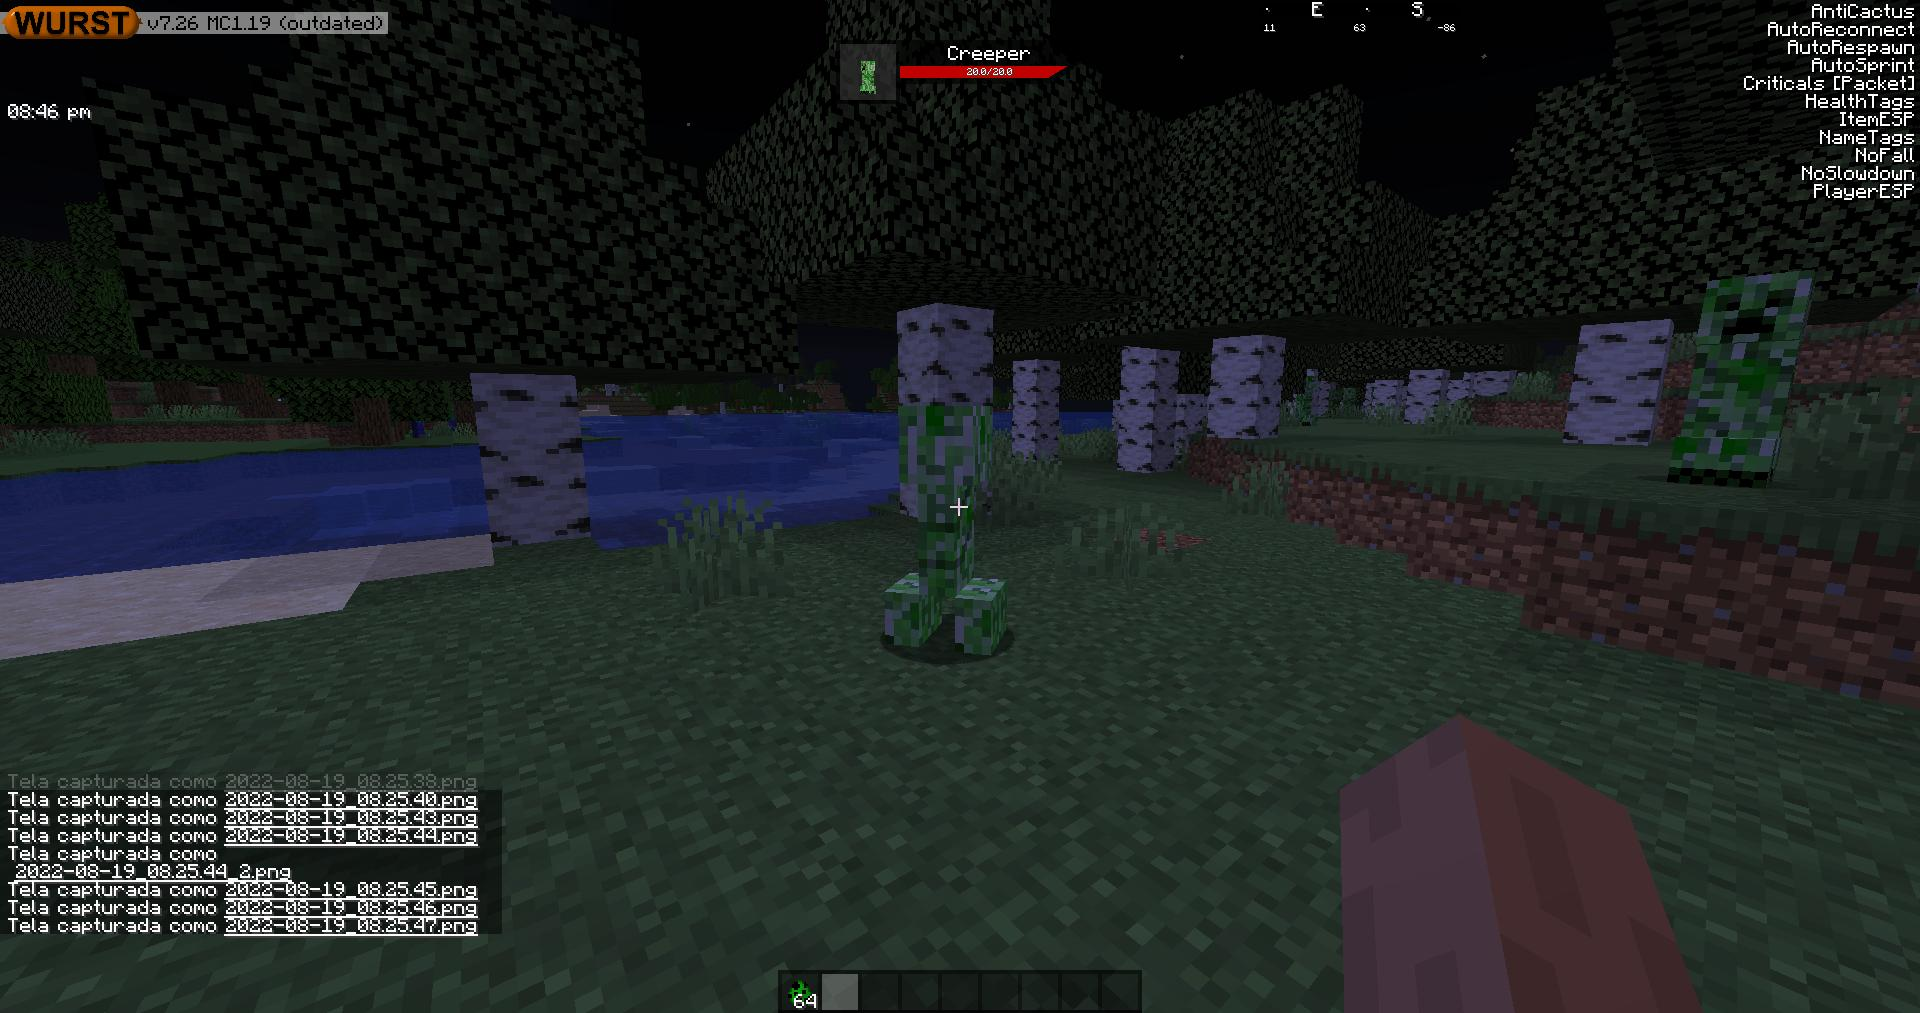creeper: (1663, 273, 1804, 473), (890, 407, 1001, 651)
